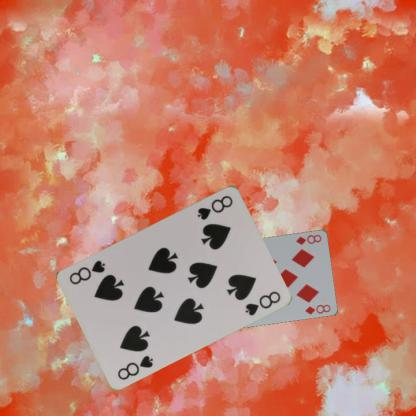8d: (293, 232, 323, 246)
8s: (195, 192, 234, 222), (115, 352, 155, 381)
